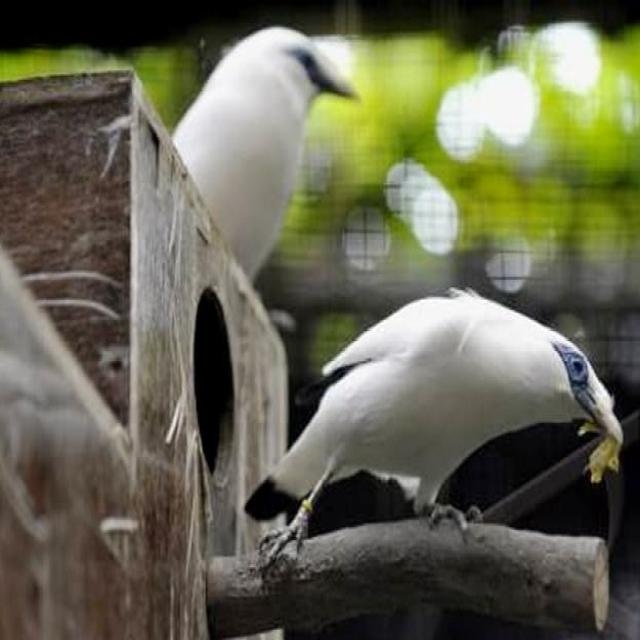Jalak Bali: (242, 247, 640, 594), (136, 21, 377, 300)
